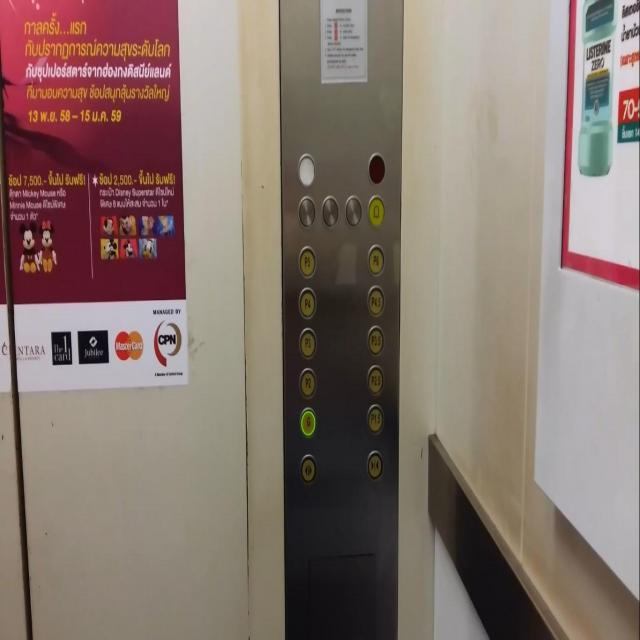G: (298, 405, 317, 438)
P15: (366, 403, 385, 435)
P2: (298, 367, 317, 400)
P25: (367, 364, 385, 398)
P3: (298, 326, 316, 359)
P35: (367, 322, 385, 356)
P4: (298, 286, 317, 318)
P45: (366, 282, 385, 316)
P5: (298, 244, 316, 278)
P6: (366, 242, 385, 276)
alarm: (366, 192, 386, 226)
close: (366, 450, 383, 480)
empty: (296, 152, 315, 188), (297, 194, 316, 230), (320, 195, 339, 230), (367, 150, 386, 185), (344, 194, 362, 227)
open: (298, 452, 317, 483)
